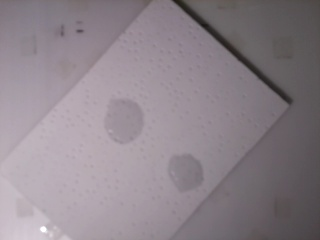Water_detected: (104, 99, 141, 137), (176, 157, 194, 187)
